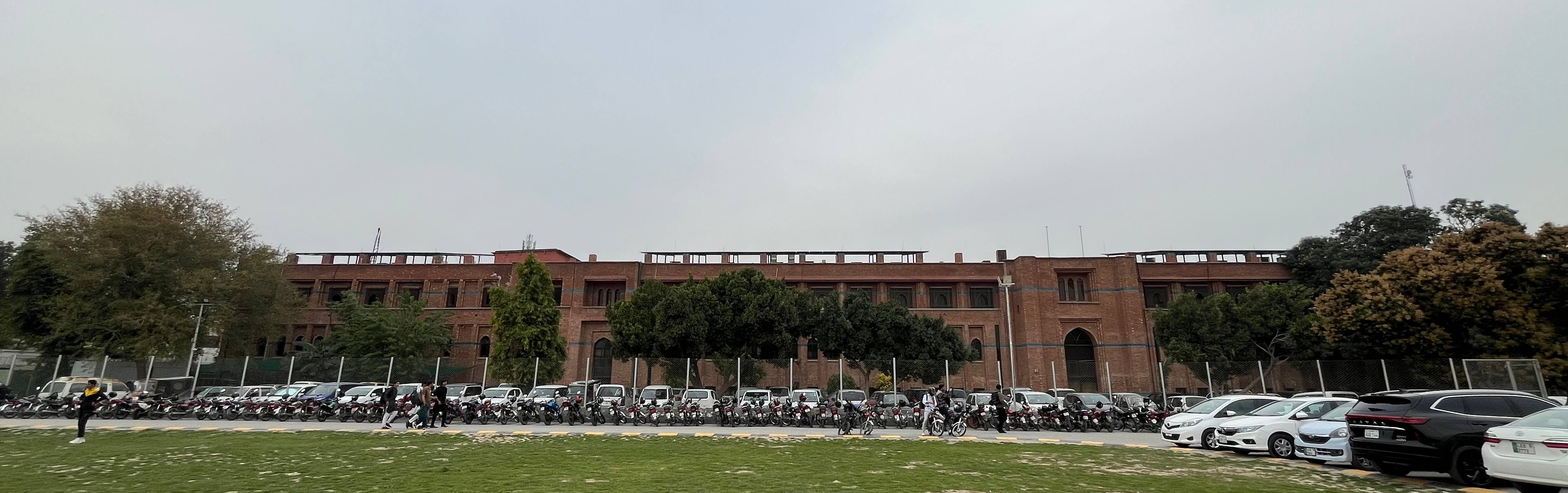Block D: (196, 243, 1544, 389)
